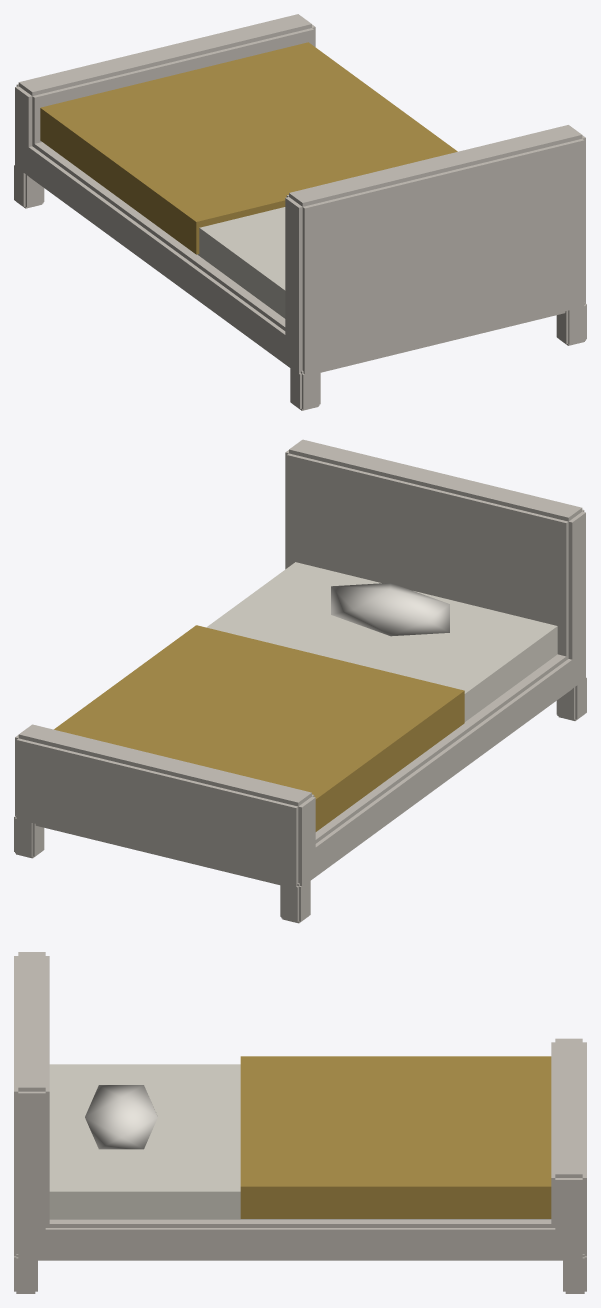
The model's file is marble_bed_v0.glb.
3 renders of one model, top to bottom at view 1: azimuth 30°, elevation 25°; view 2: azimuth 150°, elevation 25°; view 3: azimuth 270°, elevation 25°, orthographic.
Visible parts, largest first — view 1: marble_bed_v0; view 2: marble_bed_v0; view 3: marble_bed_v0.
Part boxes in pixels (bbox=[...]): marble_bed_v0: bbox=[14, 14, 586, 410]; marble_bed_v0: bbox=[14, 439, 586, 923]; marble_bed_v0: bbox=[14, 952, 586, 1293].
Bounding box in the file's own units: 1.38 × 0.95 × 2.4.
